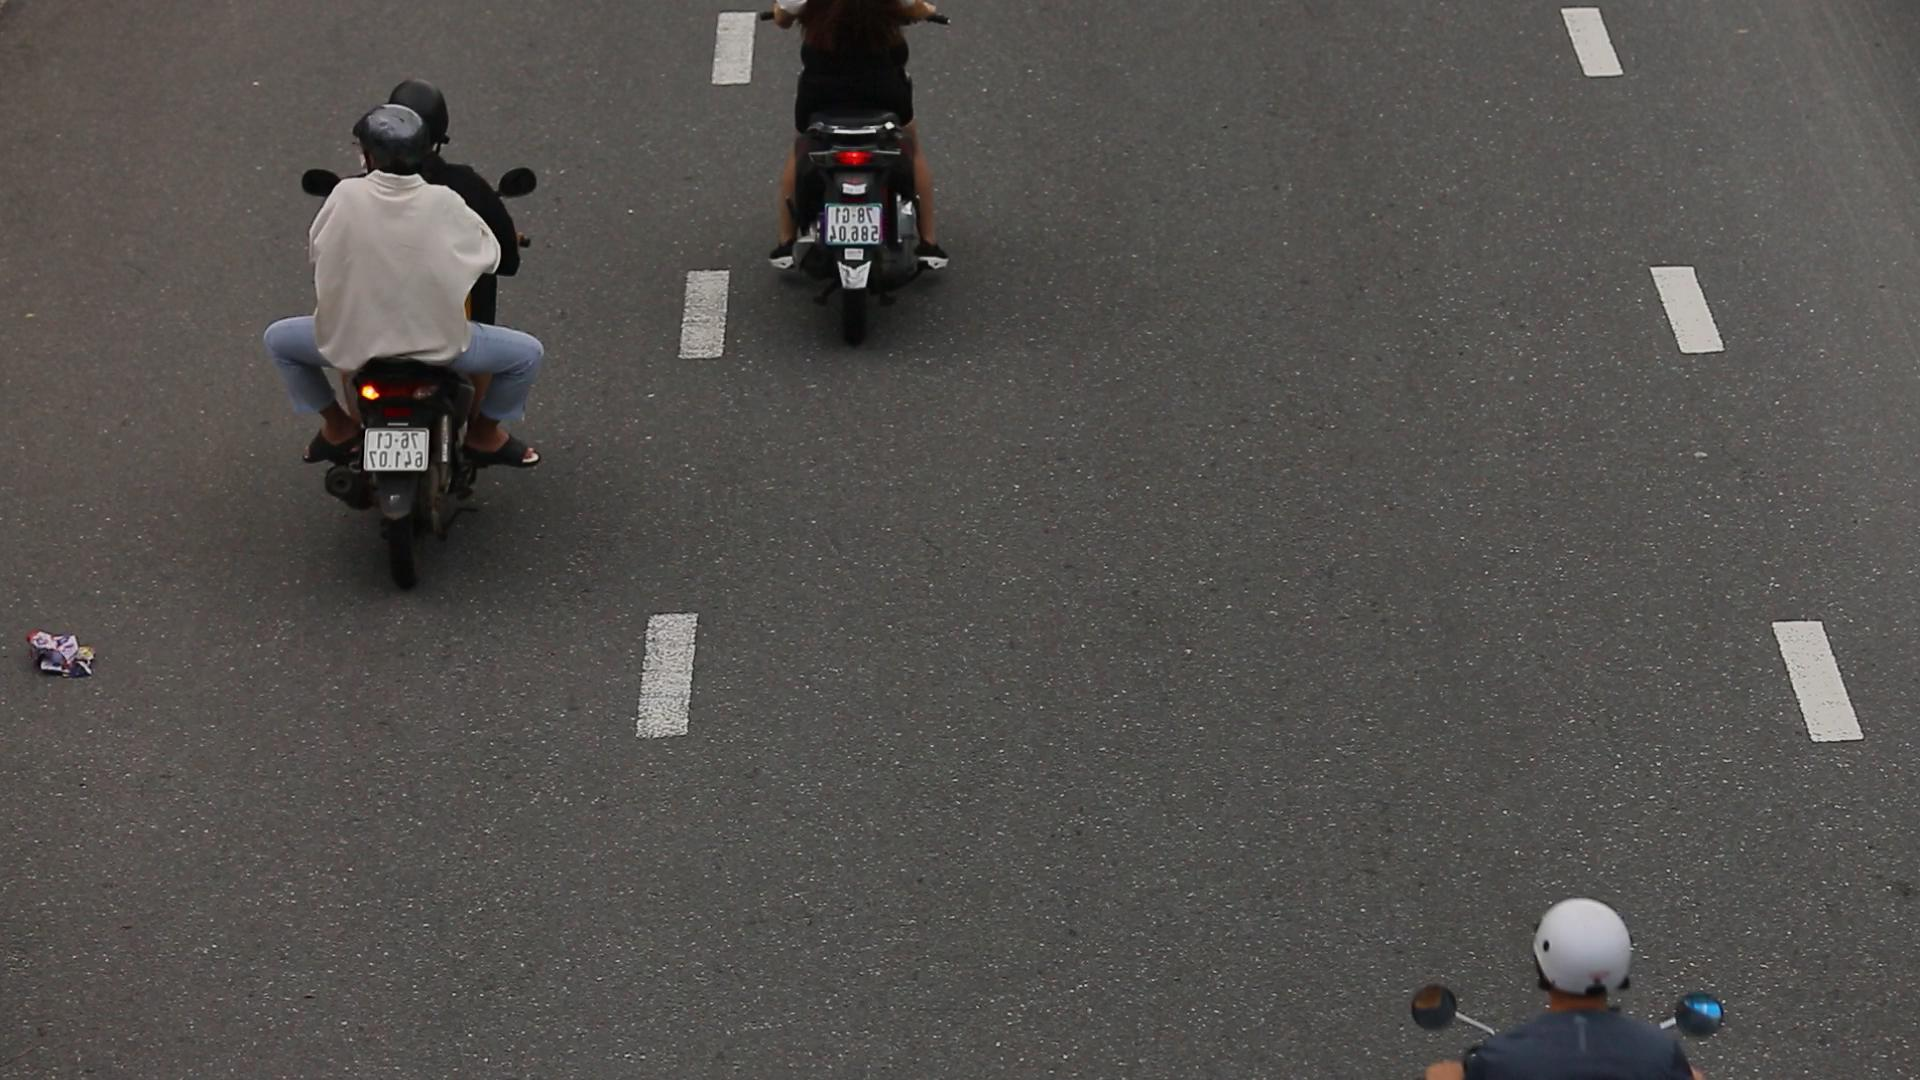motobike: (235, 51, 560, 605)
